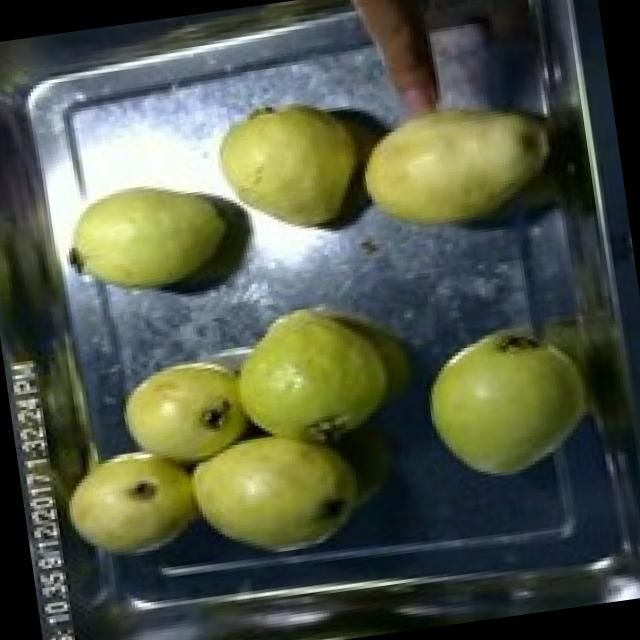Fruit: (336, 81, 568, 253), (409, 306, 606, 492), (208, 278, 410, 459), (174, 402, 378, 576), (195, 74, 388, 254), (52, 162, 246, 319), (48, 430, 214, 572)
